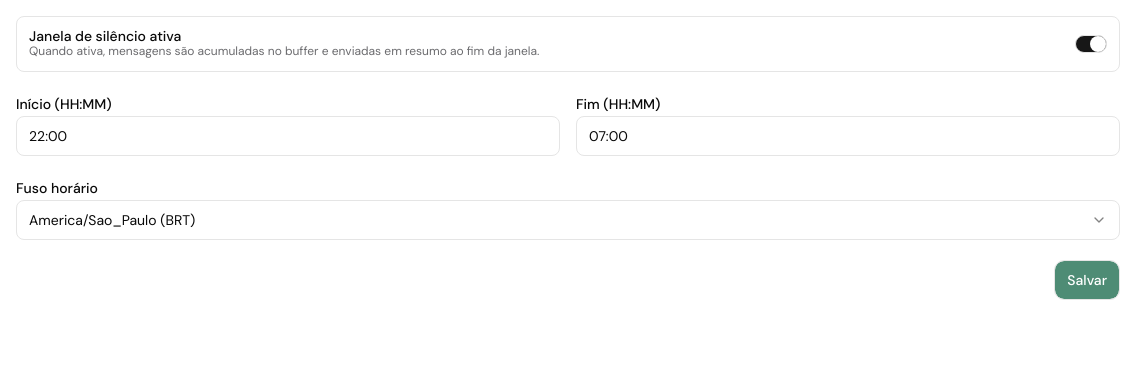
Test case: QuietHoursForm › should display server error message when action fails
Click the button "Salvar" at (1087, 280), box [1054,260,1120,300]
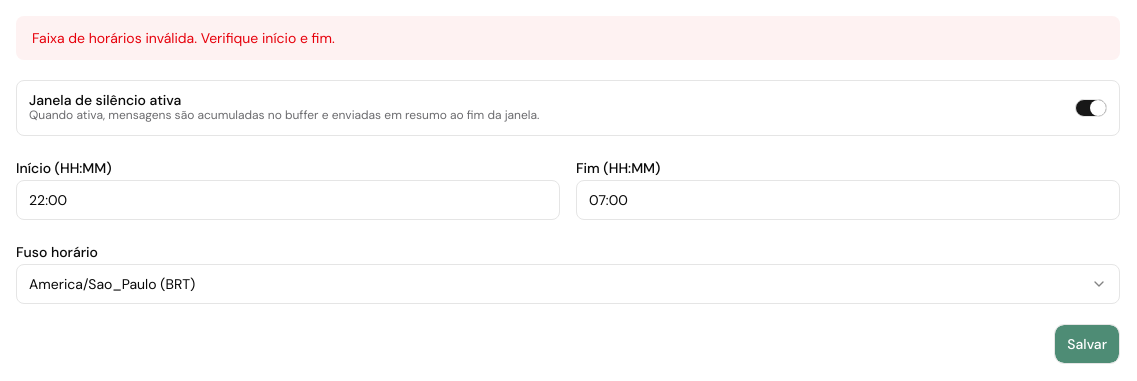
Now the text "Faixa de horários inválida. Verifique início e fim." is shown, box [16,16,1120,60]
